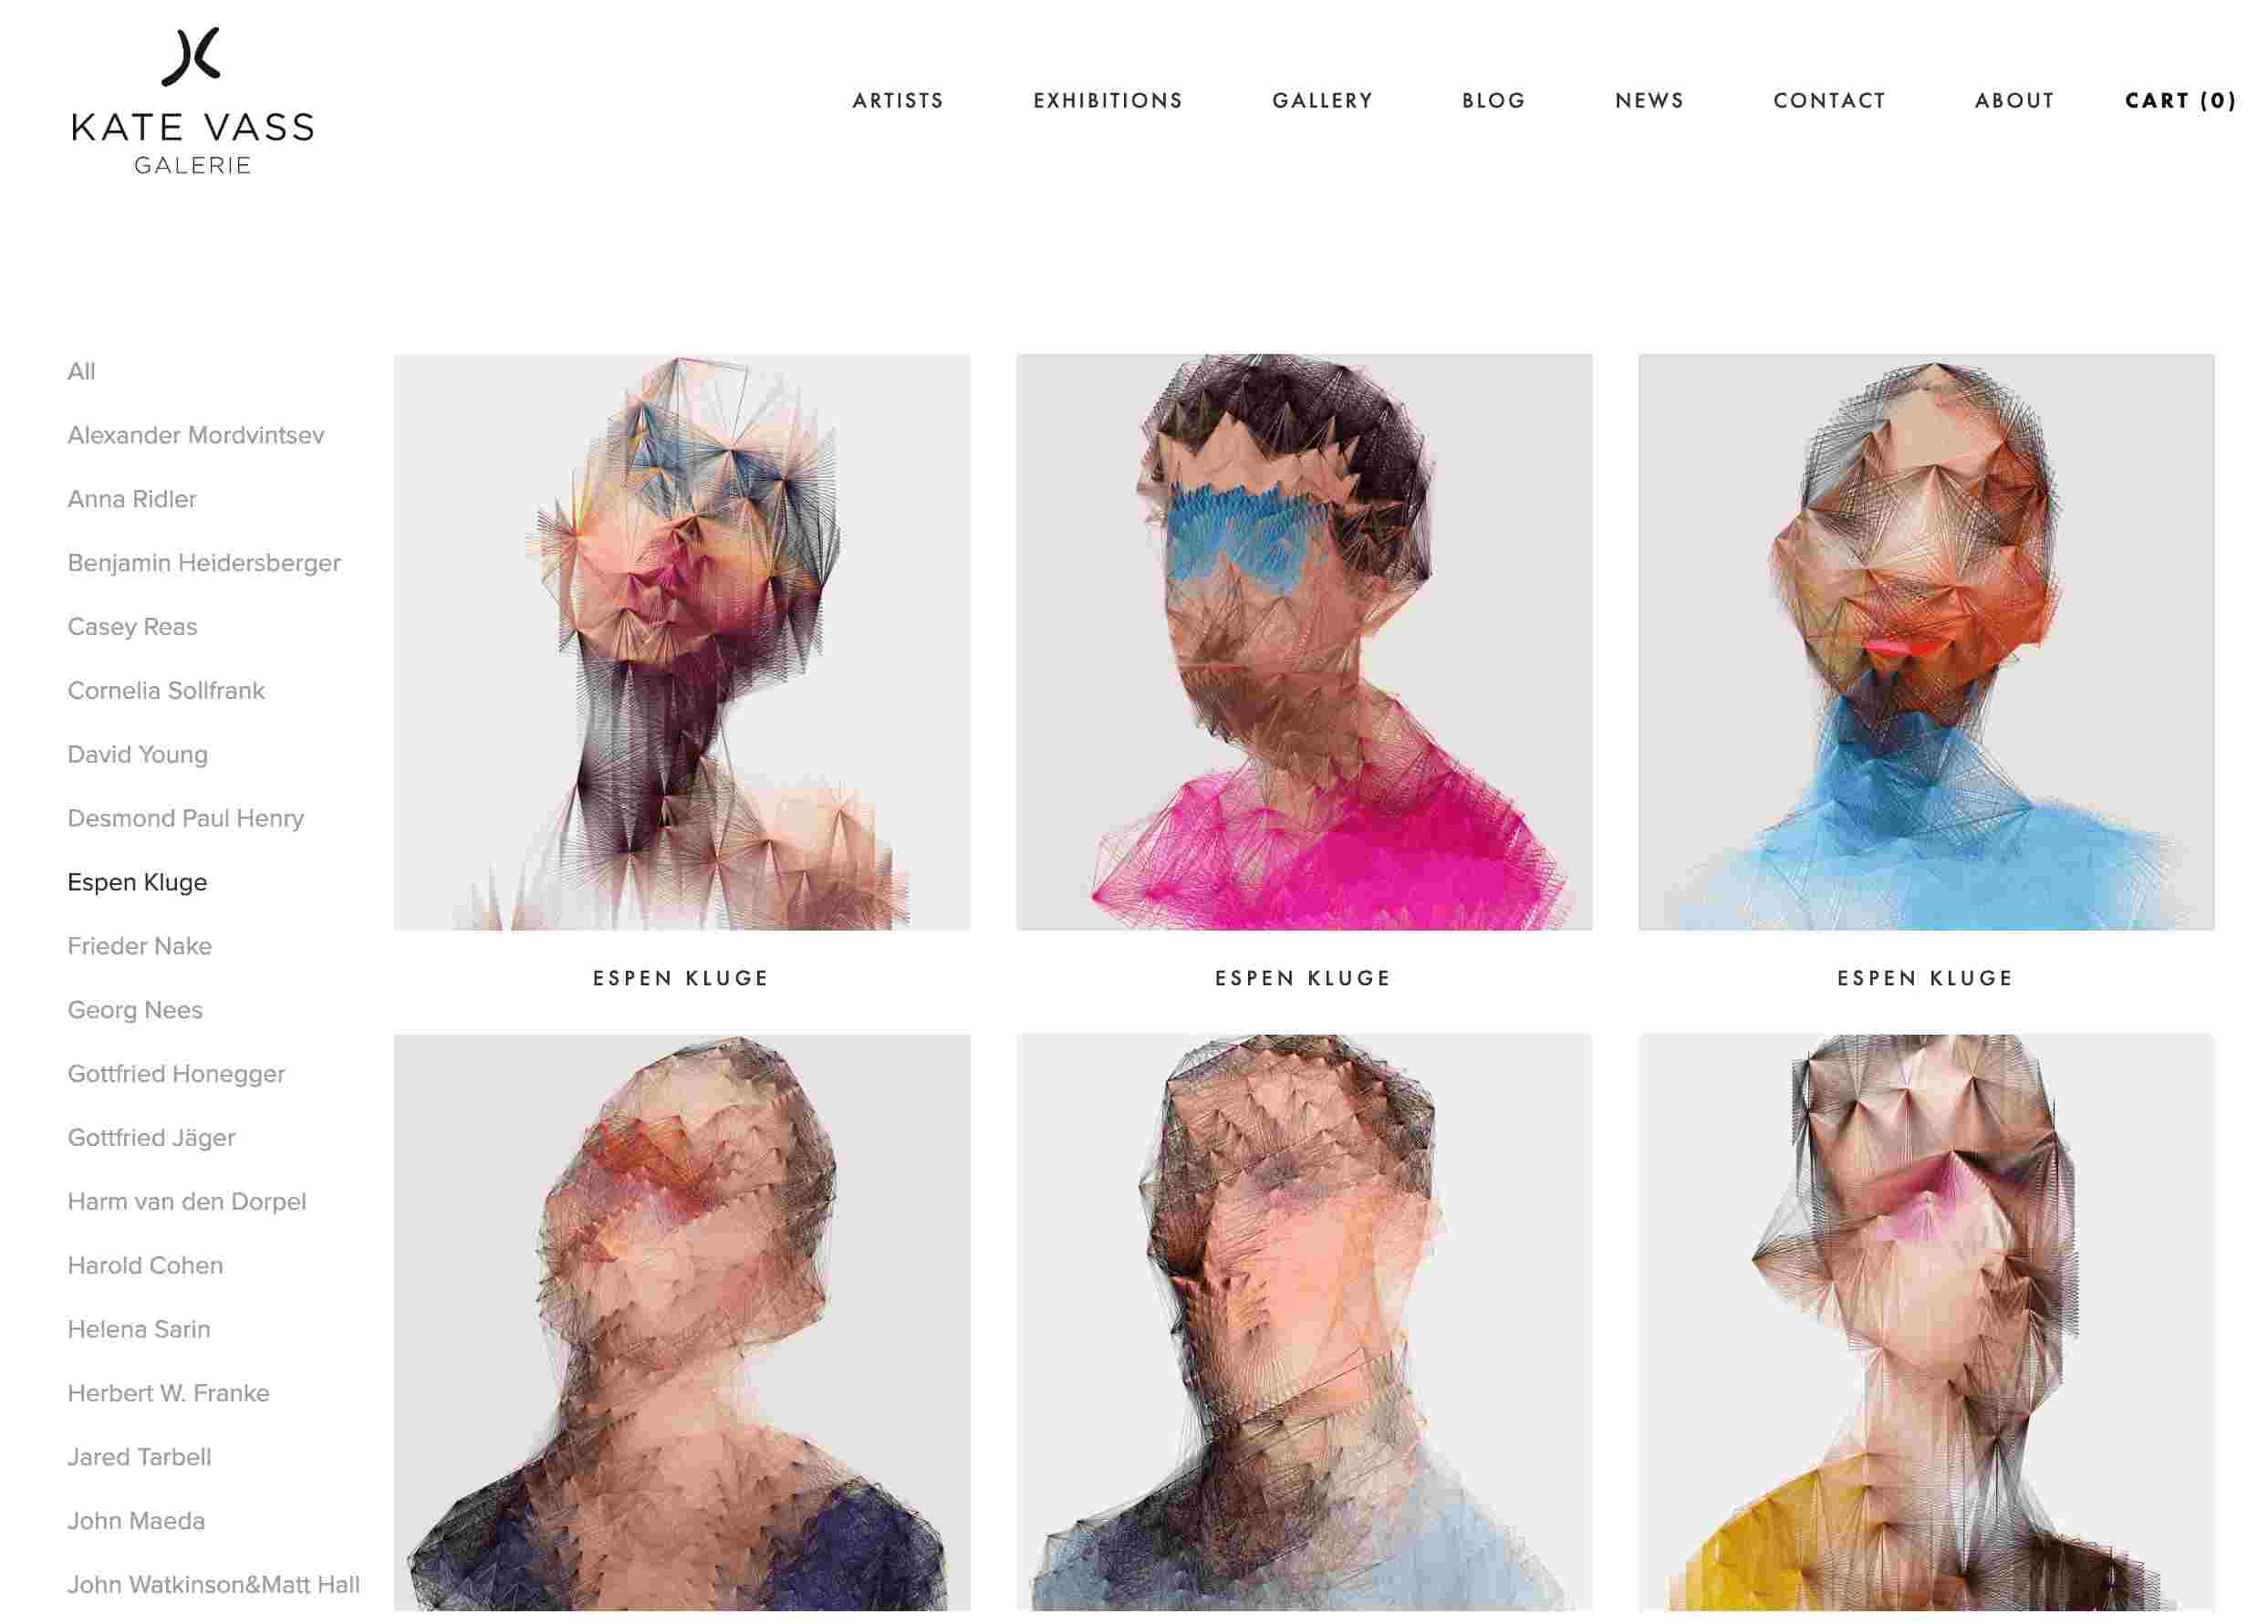Image: (1014, 1030, 1592, 1615), (1629, 350, 2208, 923), (1639, 1030, 2214, 1601), (1017, 344, 1586, 919), (395, 350, 957, 928), (401, 1033, 950, 1594), (40, 0, 355, 193)
Menu Bar: (796, 53, 2268, 153)
Side Bar: (0, 316, 388, 1624)
